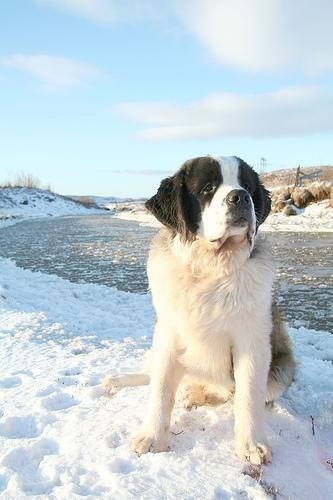dog-saint_bernard: (143, 155, 269, 258)
